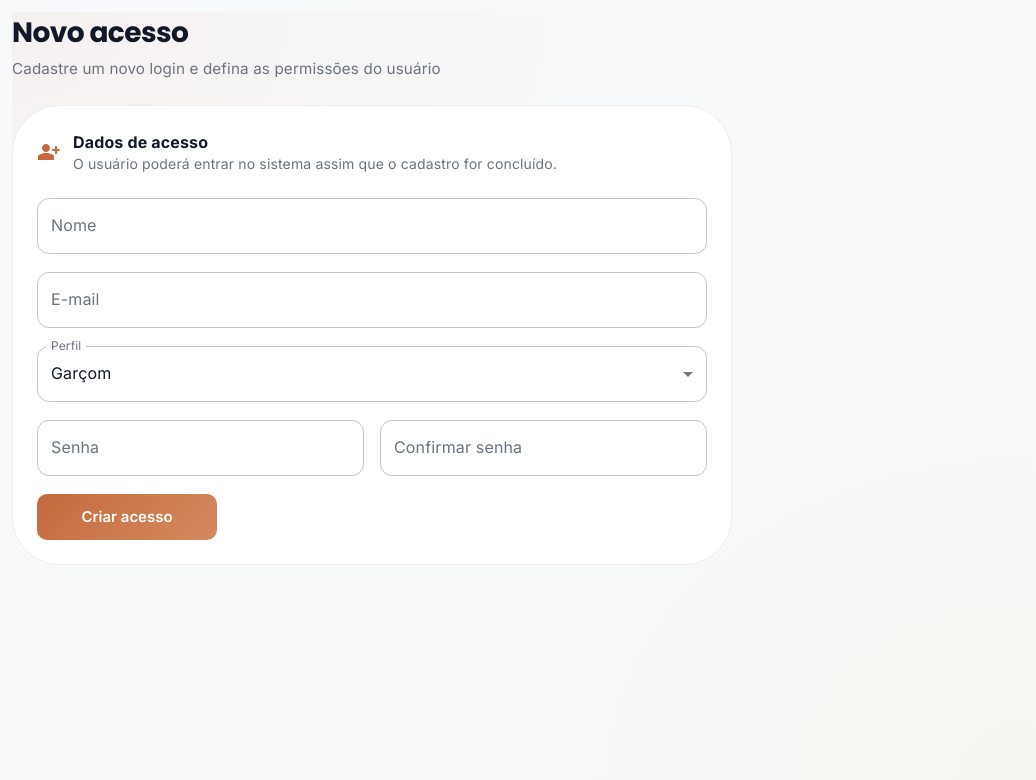
Test: CreateUserPage › valida senhas diferentes antes de enviar
The image size is (1036, 780).
Type "João" into the field labelled "Nome" at (372, 226), box [37, 198, 707, 254]
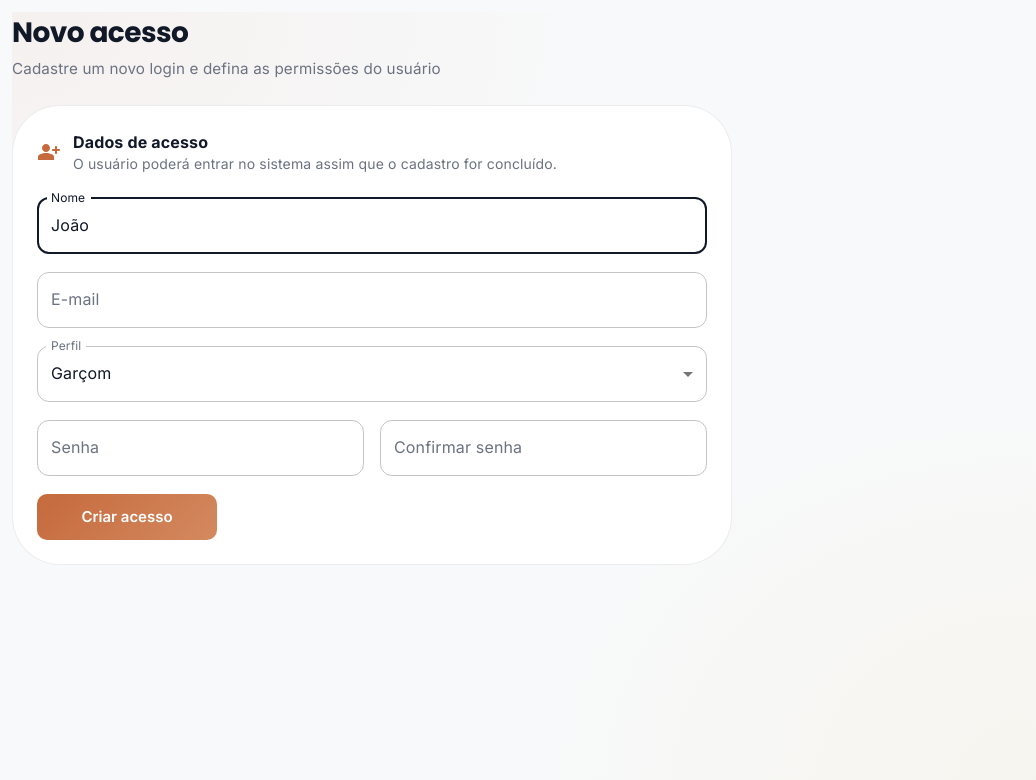
Type "joao@teste.com" into the field labelled "E-mail" at (372, 300), box [37, 272, 707, 328]
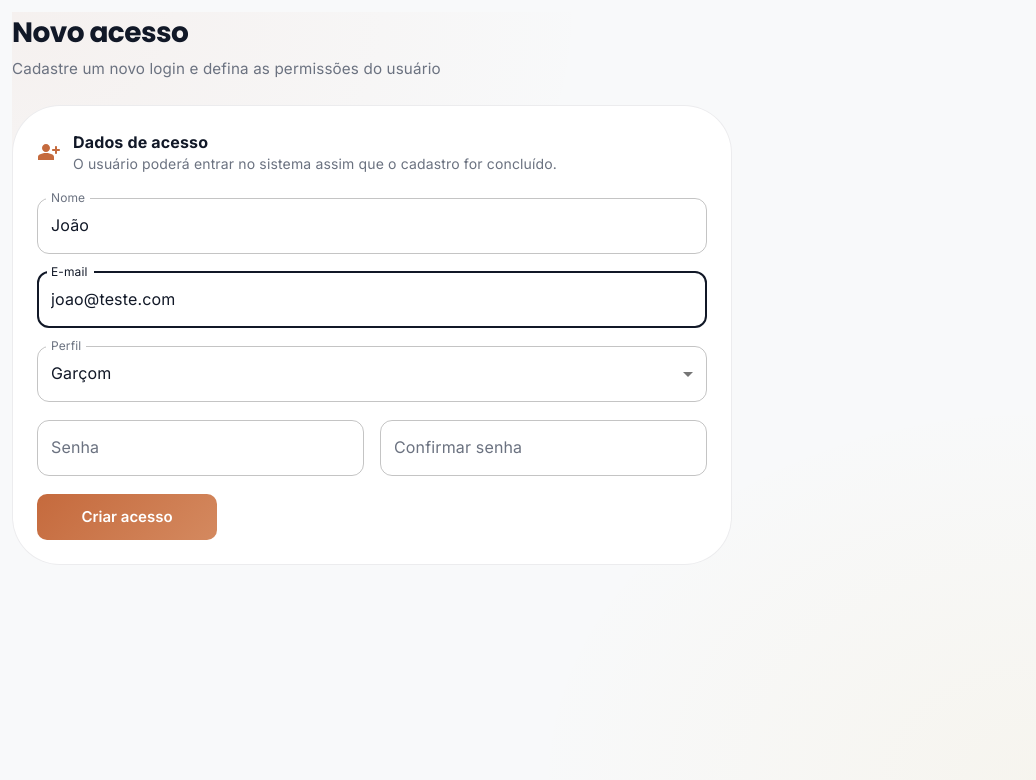
Type "123456" into the password field labelled "Senha" at (200, 448), box [37, 420, 364, 476]
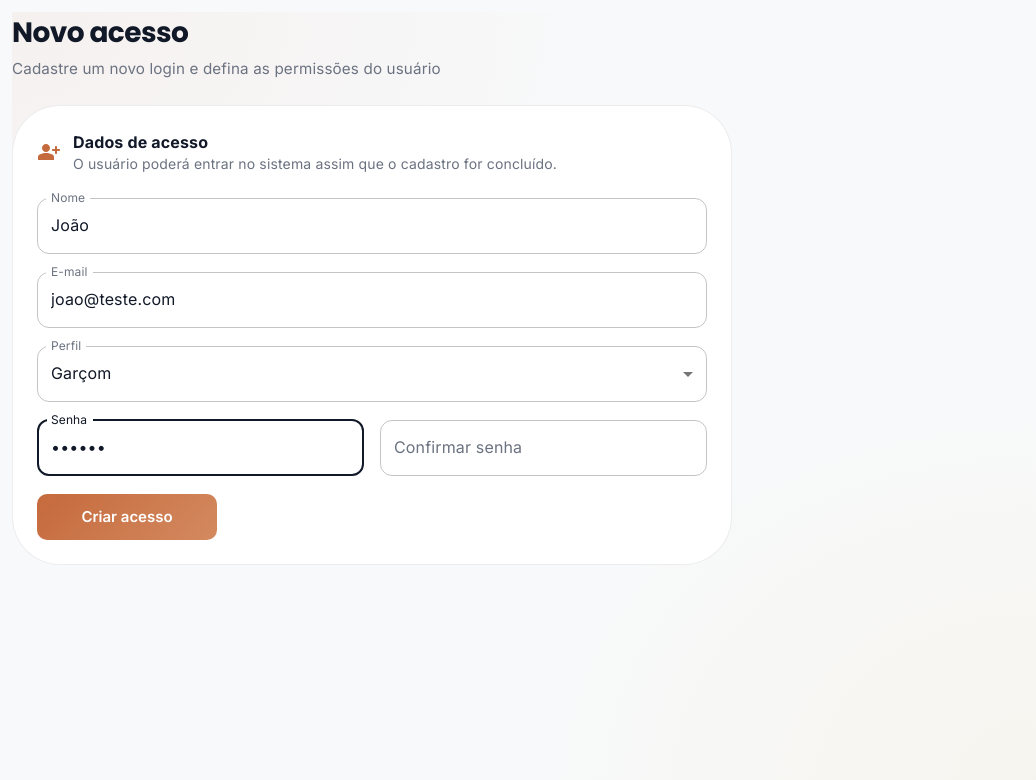
Type "654321" into the password field labelled "Confirmar senha" at (544, 448), box [380, 420, 707, 476]
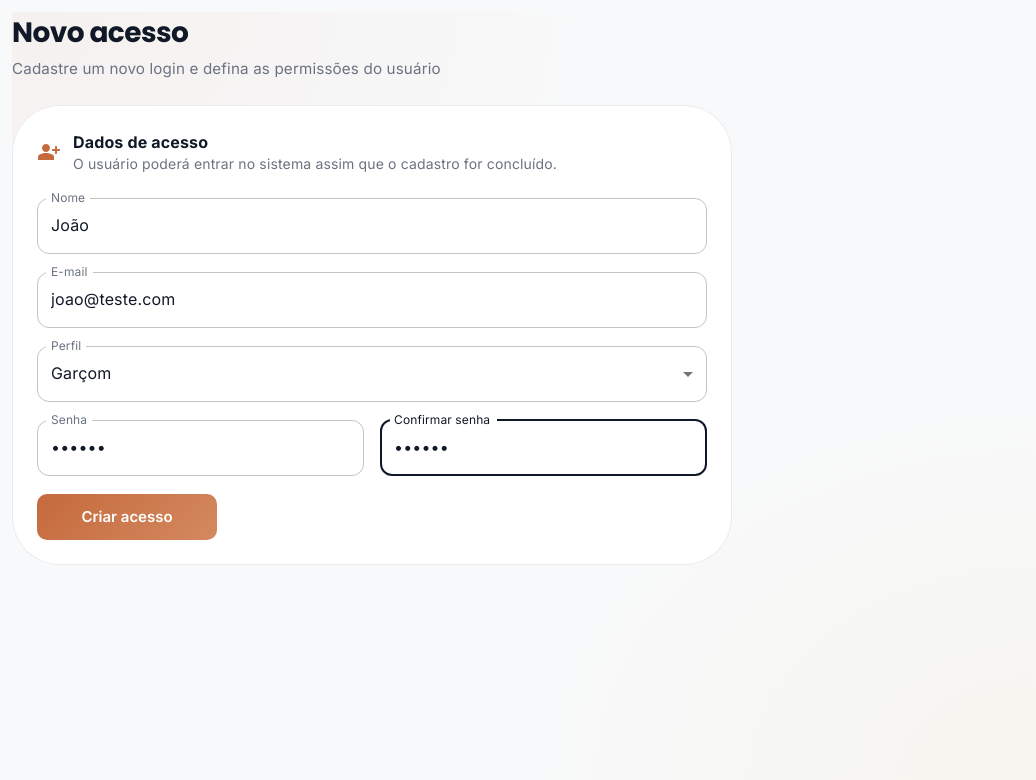
Click the button "Criar acesso" at (127, 517), box [37, 494, 217, 540]
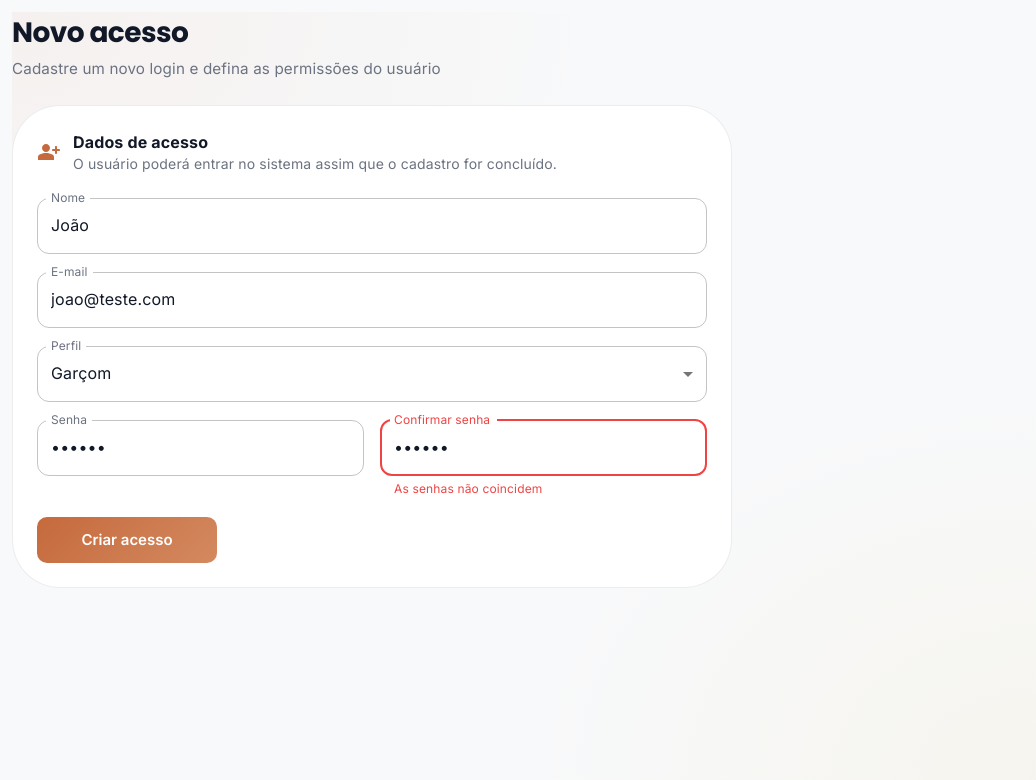
Result: the text "As senhas não coincidem" is shown at [394, 481, 542, 496]
